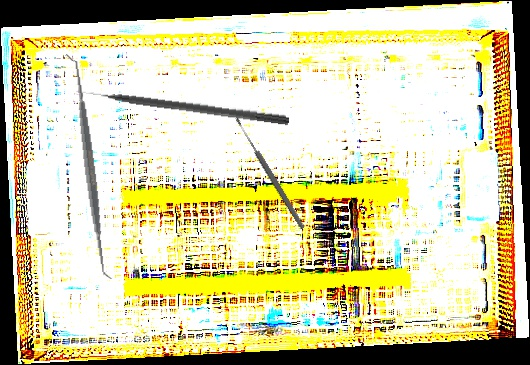Pusher: (75, 84, 290, 126)
Spatula Surgical: (62, 51, 116, 282)
Surgical Spoon: (234, 116, 306, 231)
